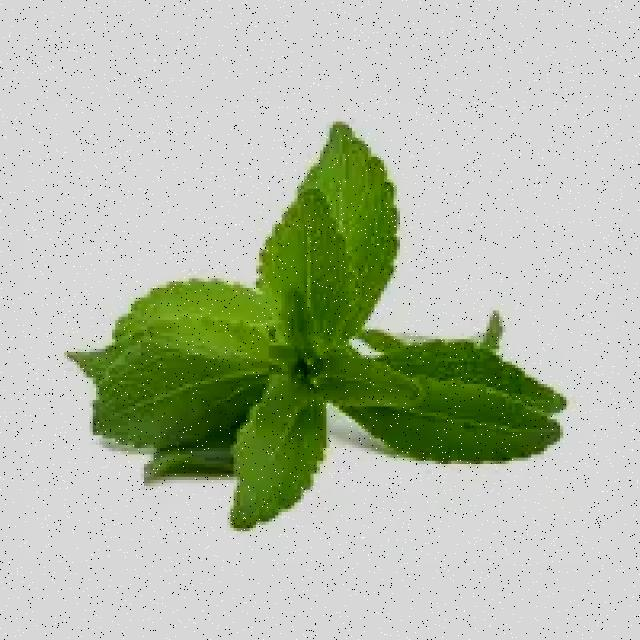NA: (72, 148, 592, 568)
